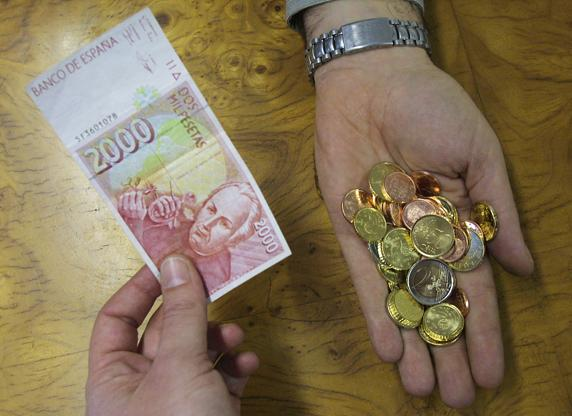billete: (23, 5, 294, 308)
